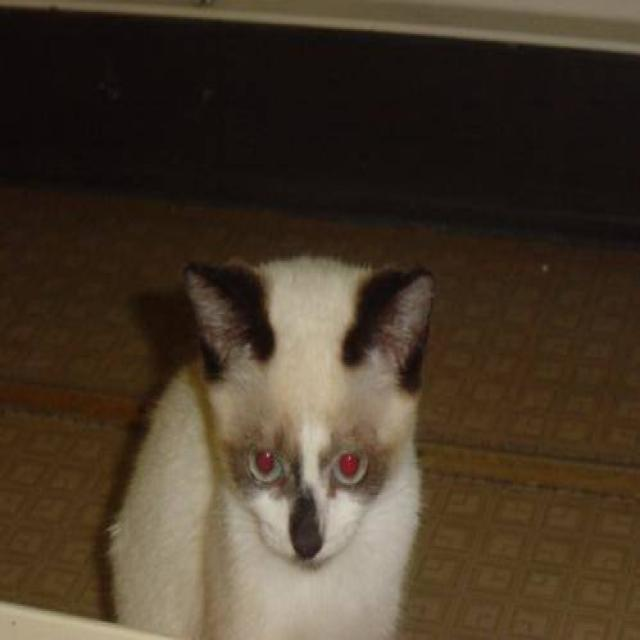cat: (102, 251, 434, 638)
